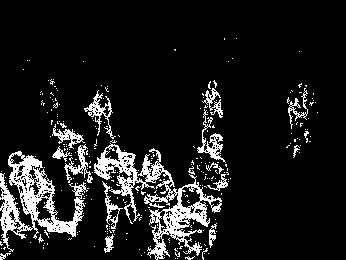person: (7, 151, 76, 240), (94, 144, 139, 251), (51, 122, 91, 227), (139, 149, 171, 258), (164, 184, 209, 259), (191, 134, 229, 220), (85, 83, 117, 146), (287, 85, 312, 158), (201, 80, 222, 135)
